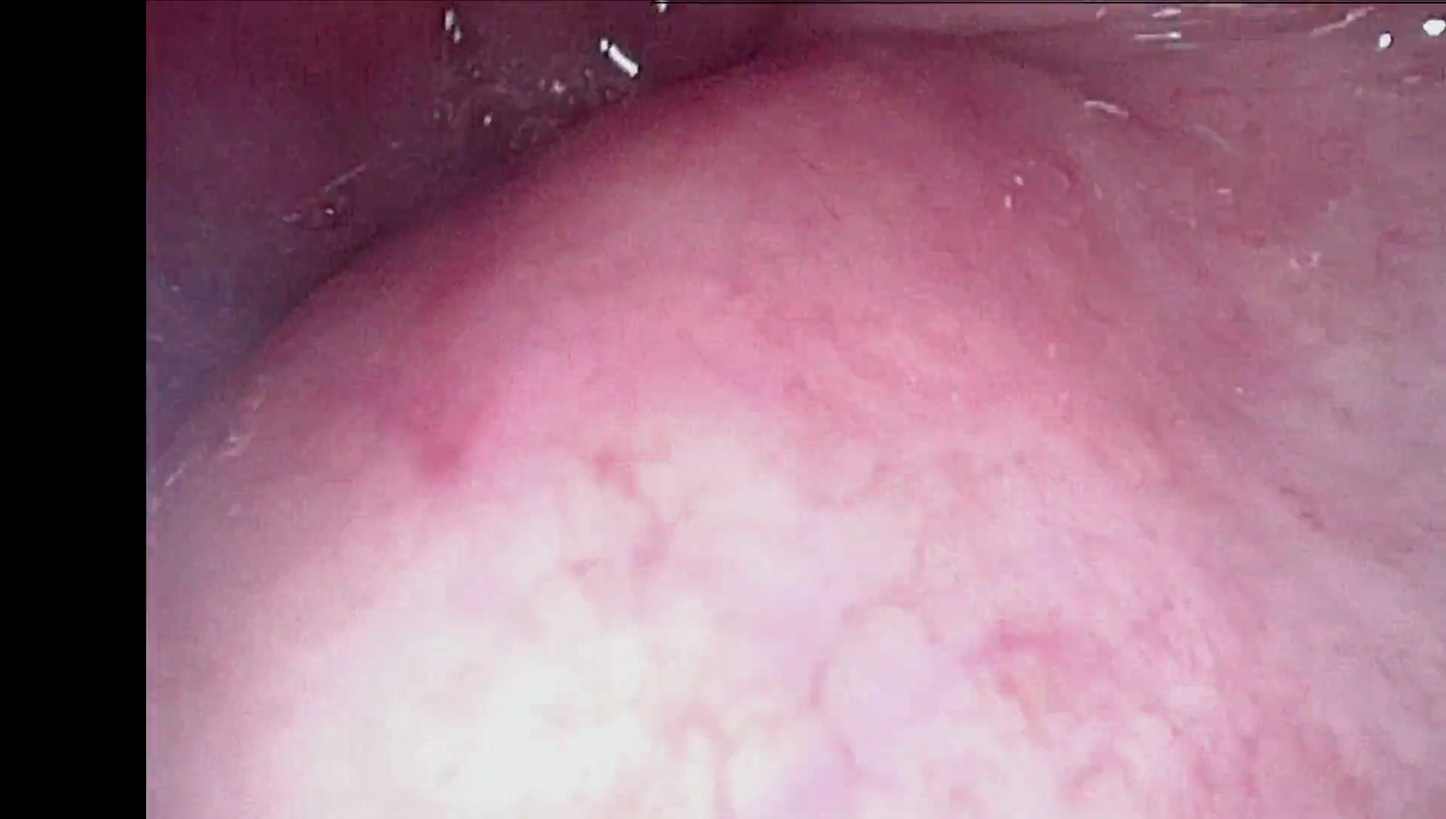next: (198, 177, 392, 431)
